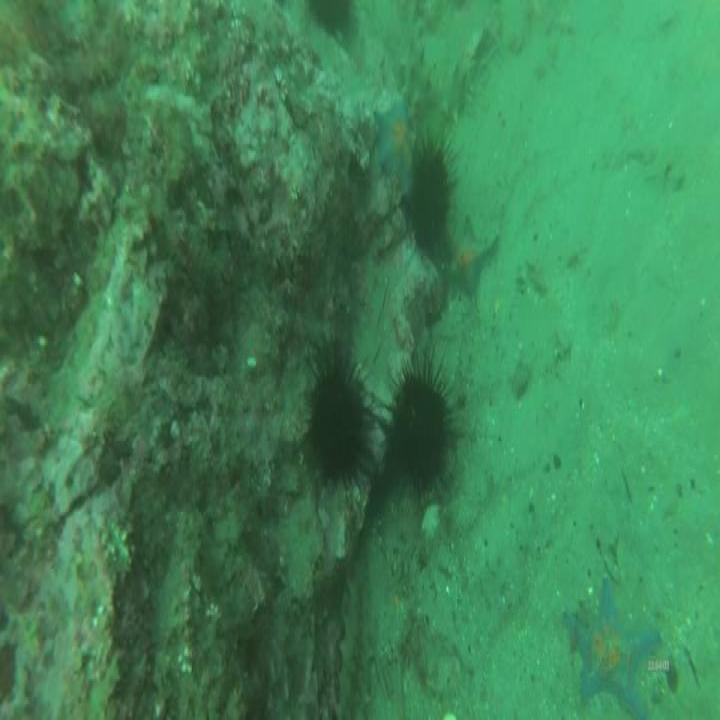echinus: (312, 359, 367, 484), (393, 366, 446, 489), (414, 150, 449, 255)
holothurian: (343, 570, 376, 720)
starfish: (564, 578, 660, 720), (373, 105, 410, 181), (451, 222, 489, 288)
